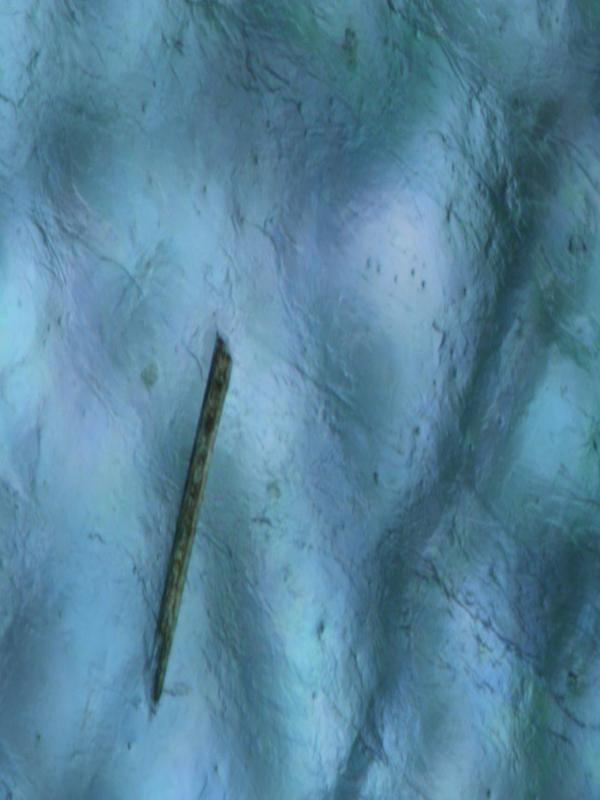microplastic: (1, 1, 598, 797), (144, 329, 233, 710)
